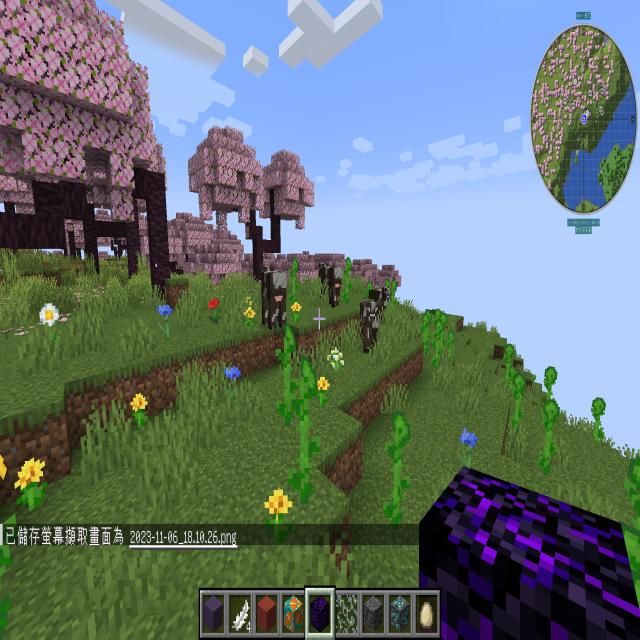cow: (254, 259, 293, 339), (356, 296, 382, 362), (315, 256, 343, 314), (366, 280, 395, 328)
